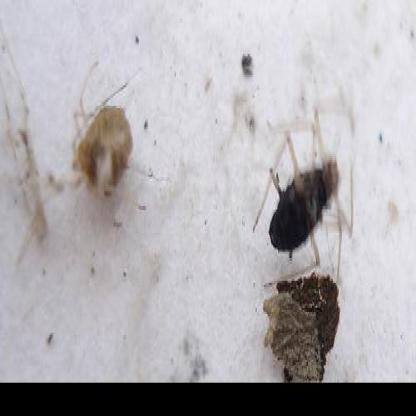aphid: (258, 105, 360, 272), (67, 68, 142, 200)
